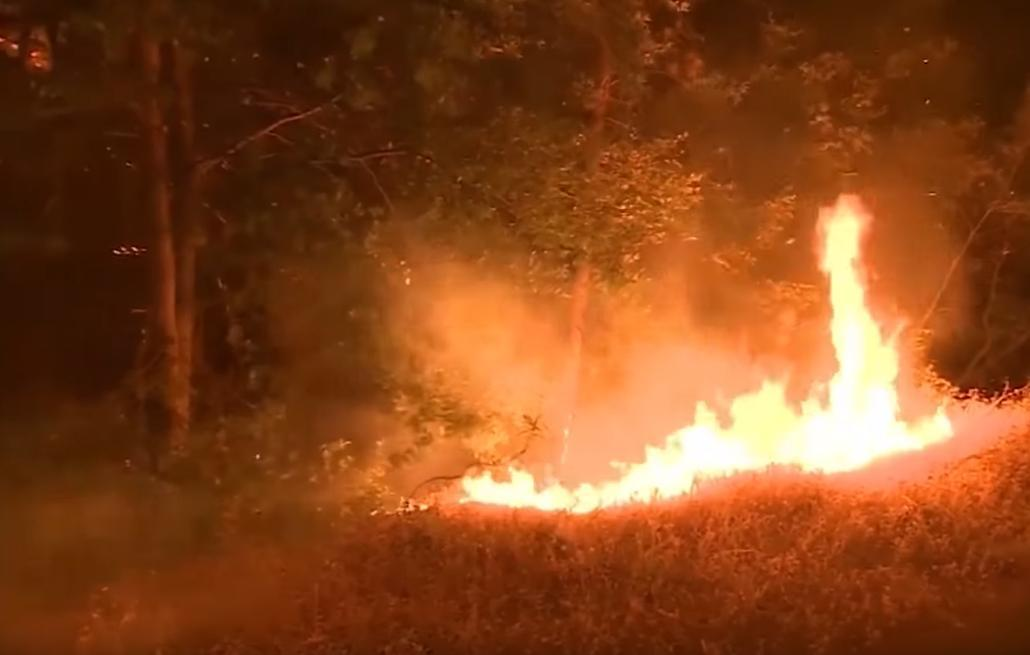Fire: (458, 187, 964, 534)
